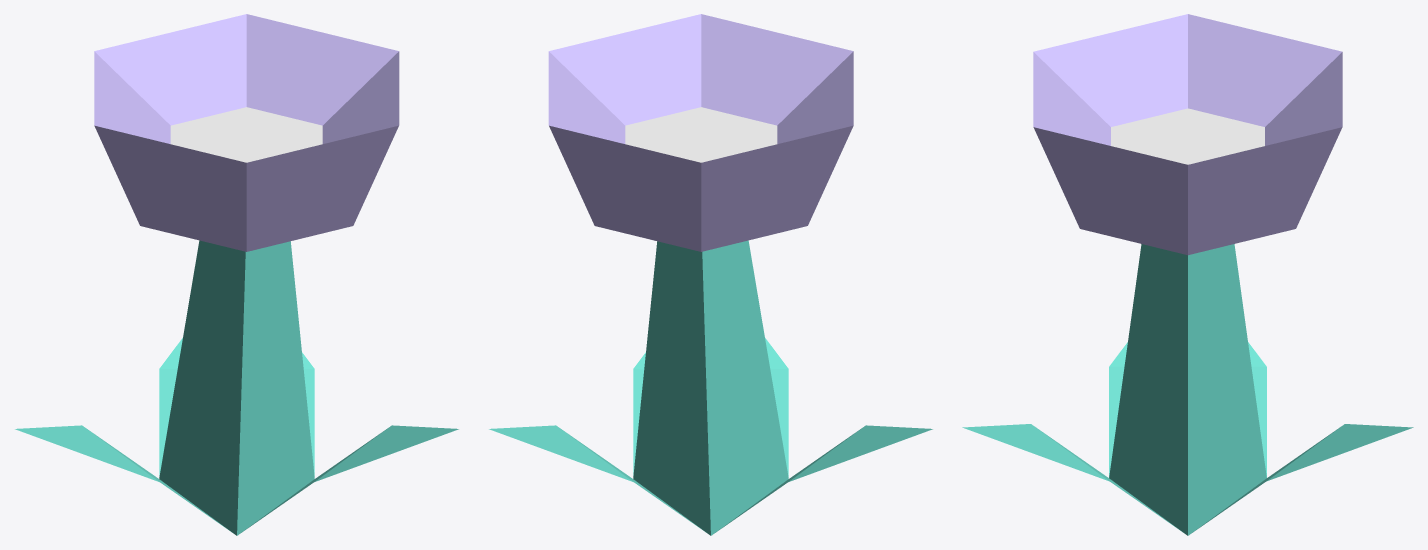
The model's file is flower_purpleC.glb.
3 renders of one model, left to right at view 1: azimuth 30°, elevation 25°; view 2: azimuth 150°, elevation 25°; view 3: azimuth 270°, elevation 25°, orthographic.
Parts seen in each view (by area): view 1: flower_purpleC; view 2: flower_purpleC; view 3: flower_purpleC.
Part boxes in pixels (<box>): flower_purpleC: <box>15,14,458,535</box>; flower_purpleC: <box>489,14,932,535</box>; flower_purpleC: <box>962,14,1413,535</box>.
Bounding box in the file's own units: 0.1806 × 0.1825 × 0.1811.
